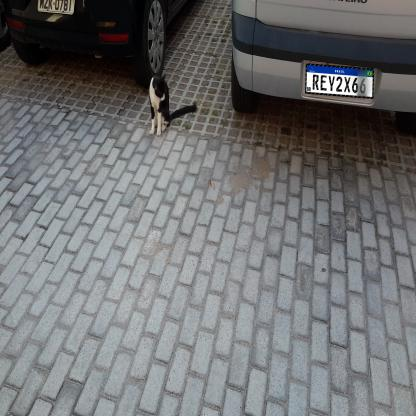PlacaM: (305, 63, 374, 99)
